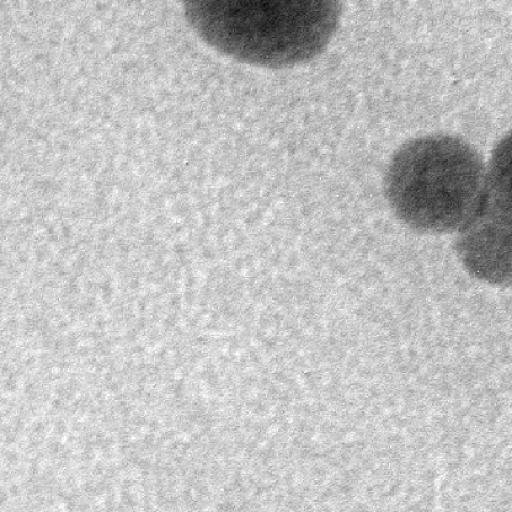Nanoparticles: (181, 0, 346, 70), (385, 129, 489, 236), (455, 187, 512, 291), (487, 124, 512, 230)
